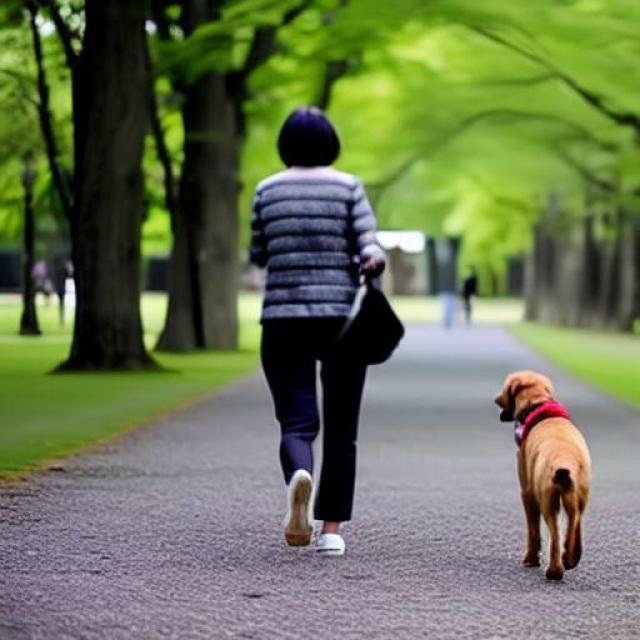Unleashed_Dog: (268, 301, 592, 582)
